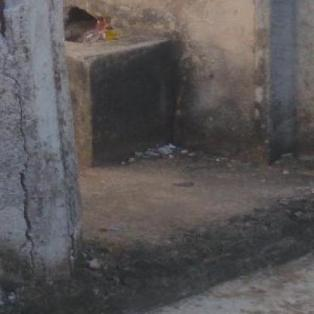Poste: (0, 0, 106, 286)
